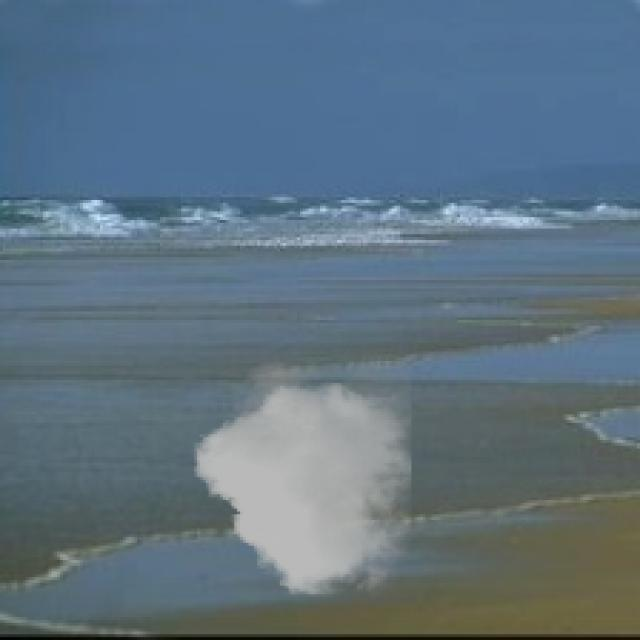smoke: (195, 354, 412, 600)
